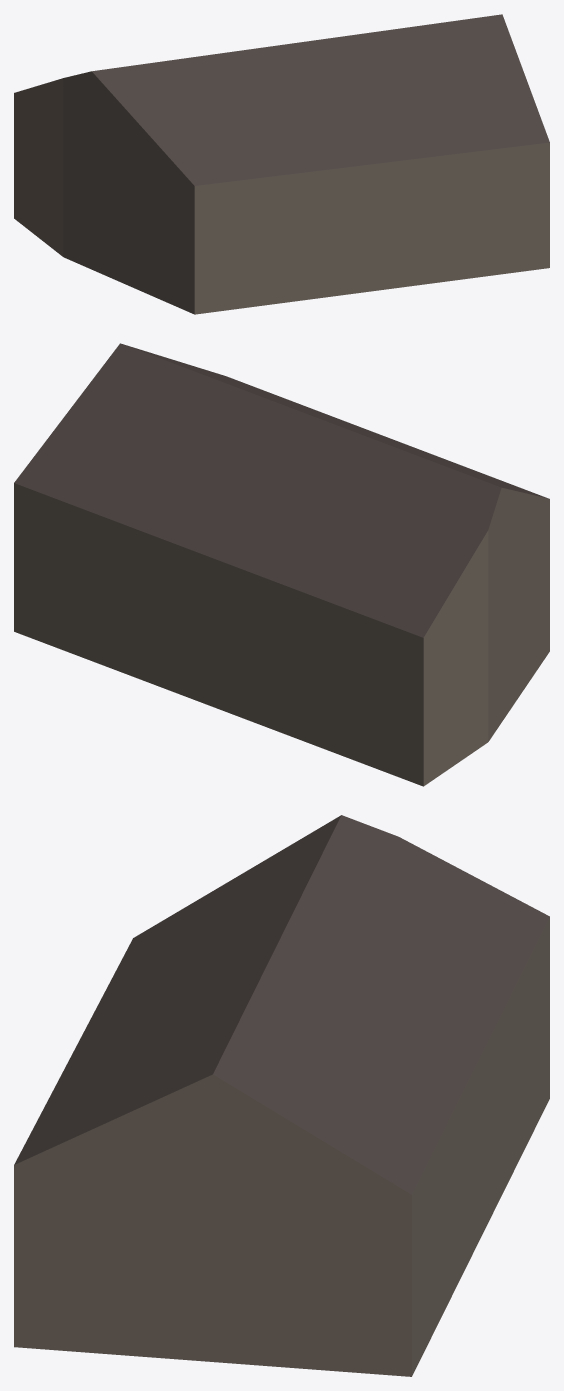
3 views of the same model, one above another, from view 1: azimuth 30°, elevation 25°; view 2: azimuth 150°, elevation 25°; view 3: azimuth 270°, elevation 25° (orthographic). The views are drawn at different scales.
Visible parts, largest first — view 1: HP-w859082489; view 2: HP-w859082489; view 3: HP-w859082489.
Boxes of the visible parts, left/top/right/bottom form: HP-w859082489: left=14, top=14, right=549, bottom=314; HP-w859082489: left=14, top=343, right=549, bottom=786; HP-w859082489: left=14, top=815, right=549, bottom=1376.
Bounding box in the file's own units: 19.81 × 9.48 × 16.01.
